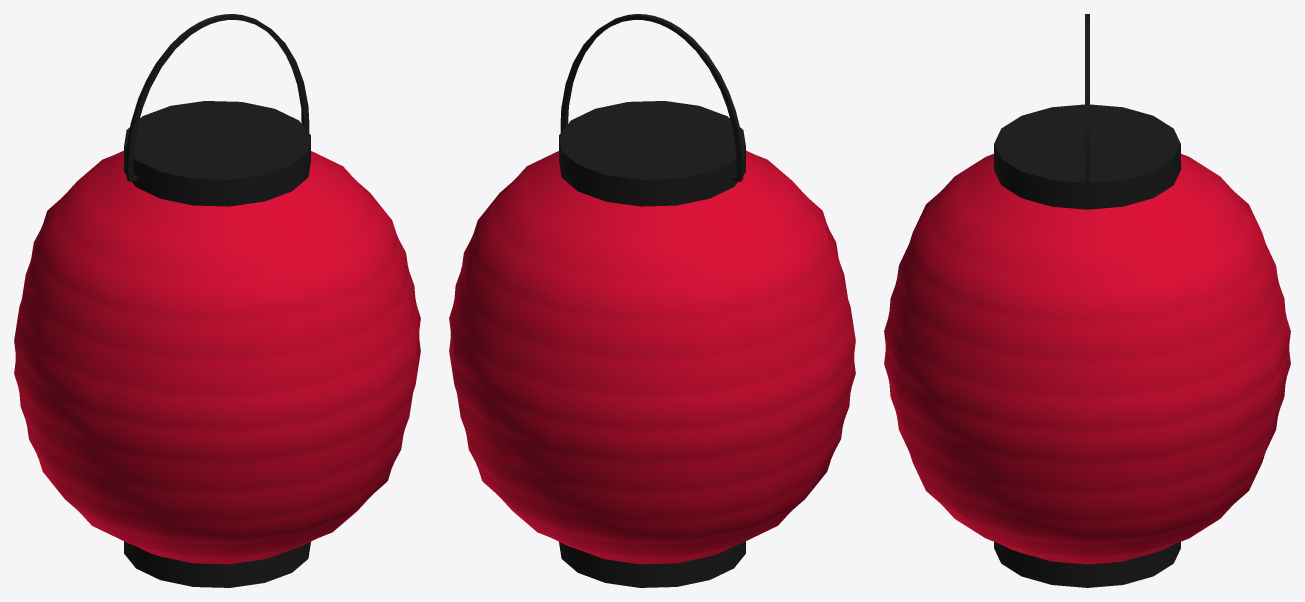
File: lantern.obj
3 views of the same model, side by side, from view 1: azimuth 30°, elevation 25°; view 2: azimuth 150°, elevation 25°; view 3: azimuth 270°, elevation 25° (orthographic).
Visible parts, largest first — view 1: 円柱; view 2: 円柱; view 3: 円柱.
Part boxes in pixels (left/top/right/bottom): 円柱: left=14, top=14, right=420, bottom=587; 円柱: left=449, top=14, right=855, bottom=587; 円柱: left=884, top=14, right=1290, bottom=587.
Size of the model in its own units: 2.17 by 3.22 by 2.17.
Materials: 2 (2 with a texture image).
